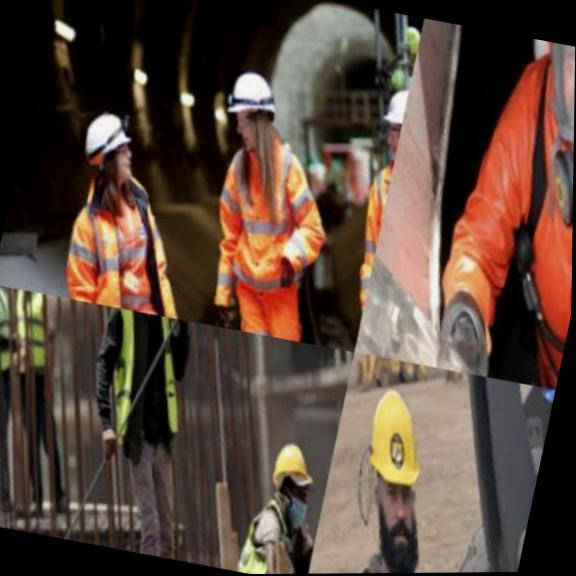safety_vest: (407, 27, 576, 389), (162, 102, 375, 347), (32, 143, 226, 322), (306, 120, 400, 351), (70, 303, 209, 459), (212, 478, 313, 574), (328, 532, 505, 574), (0, 287, 63, 376), (0, 284, 29, 382)
